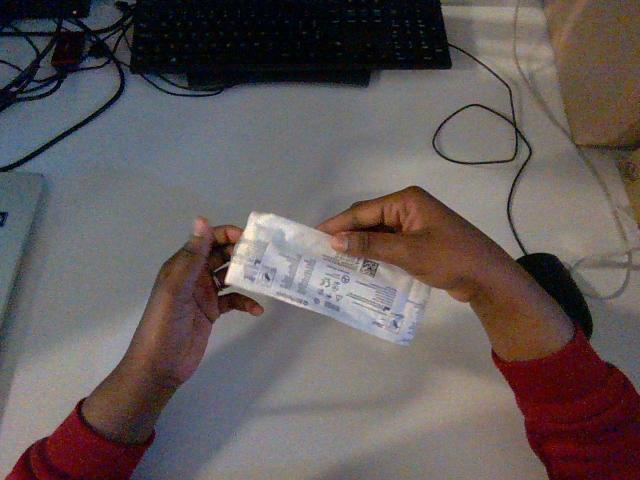syringe: (225, 212, 429, 344)
